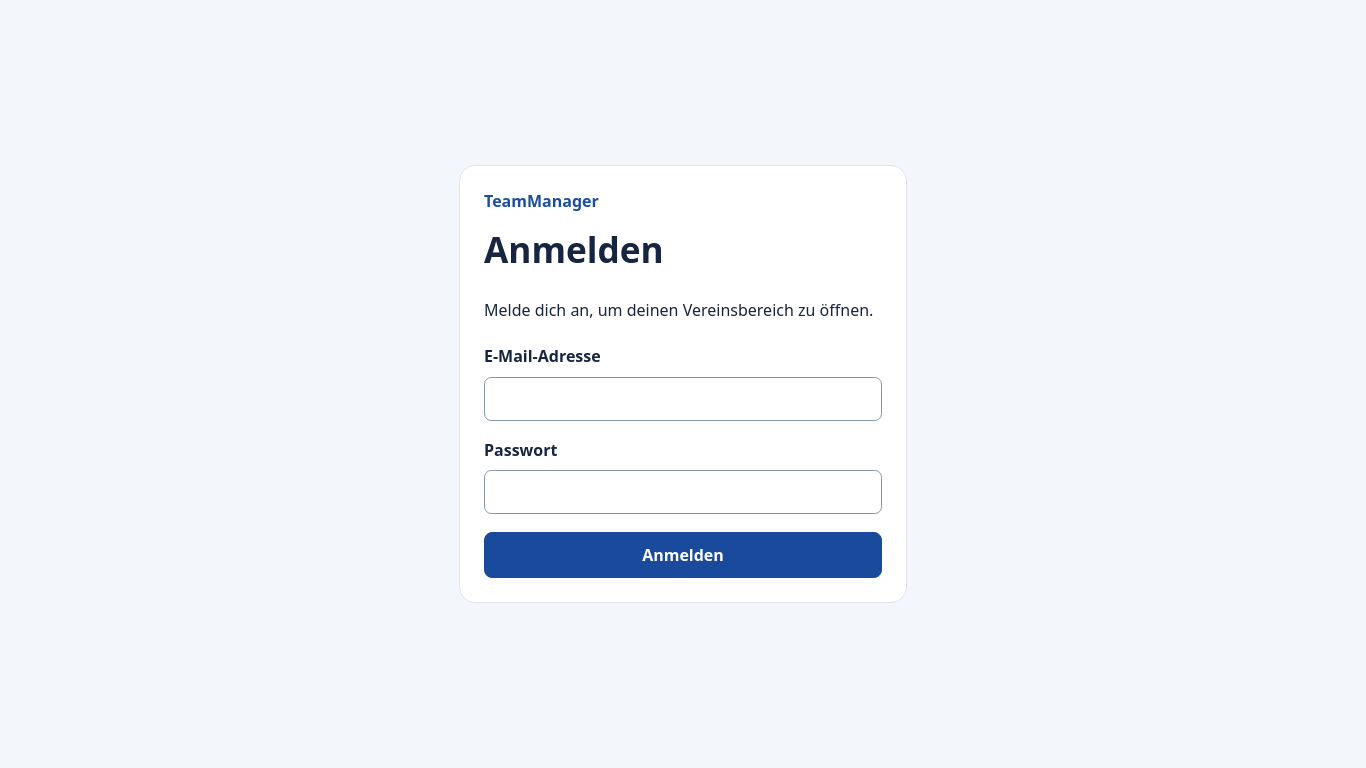
application shell › reports sign-in and sign-out errors without losing the current session
Type "admin@example.test" into the field labelled "E-Mail-Adresse" at coordinates (683, 399), box [484,377,882,421]
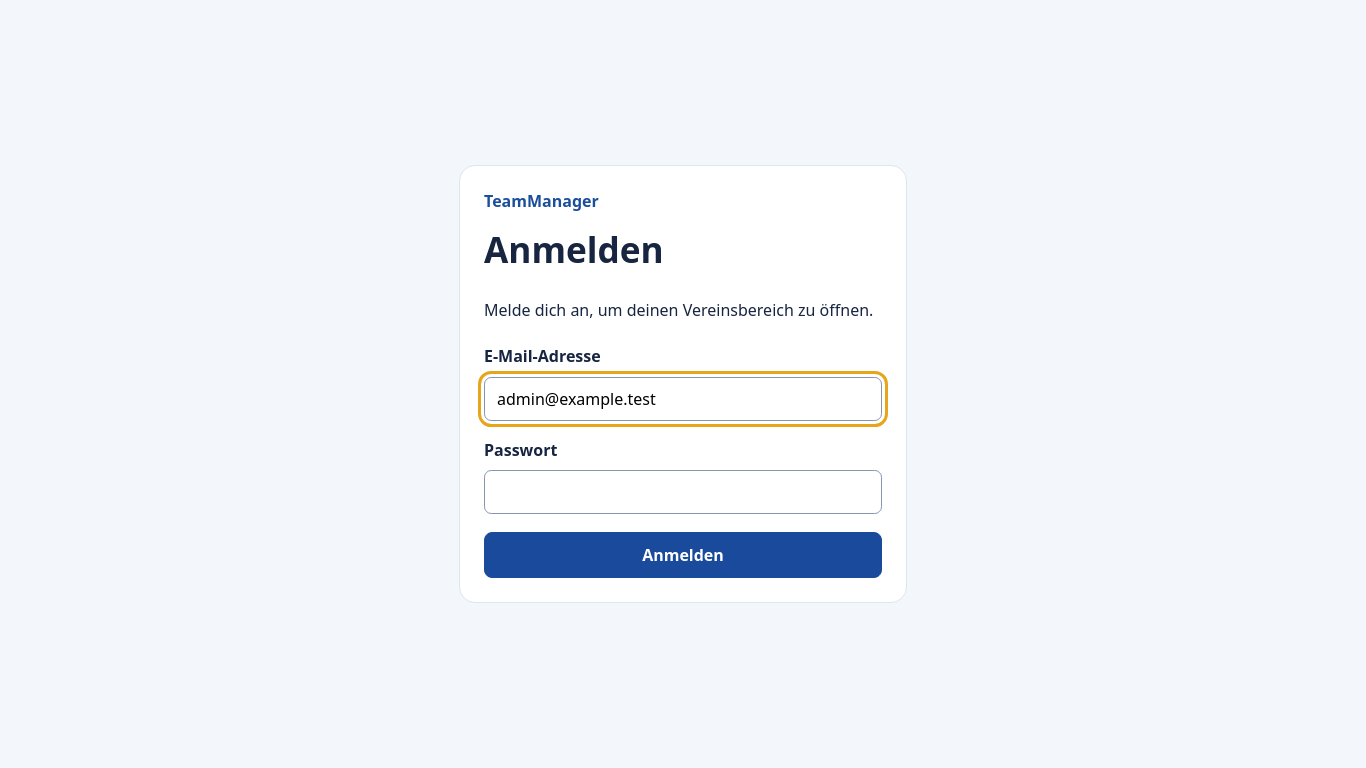
Type "wrong" into the password field labelled "Passwort" at coordinates (683, 492), box [484,470,882,514]
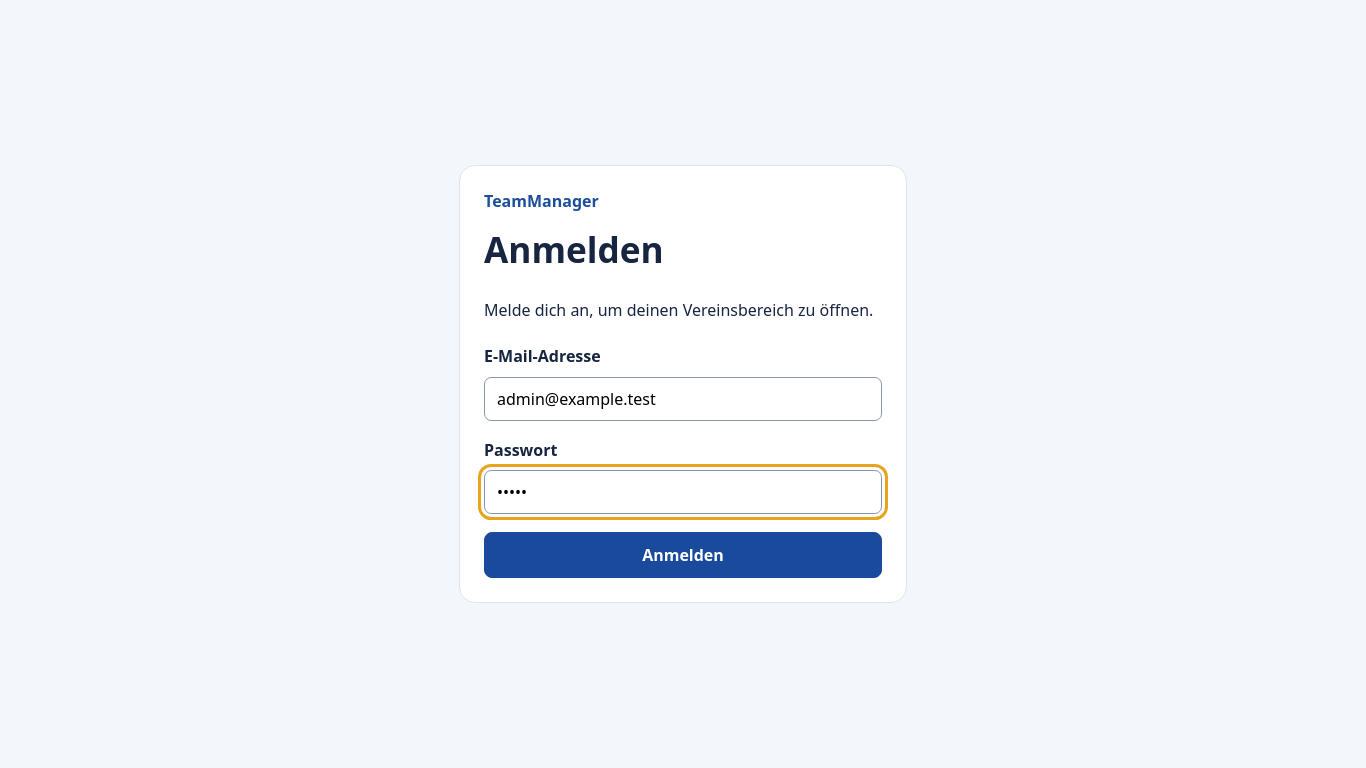
Click the button "Anmelden" at coordinates (683, 555), box [484,532,882,578]
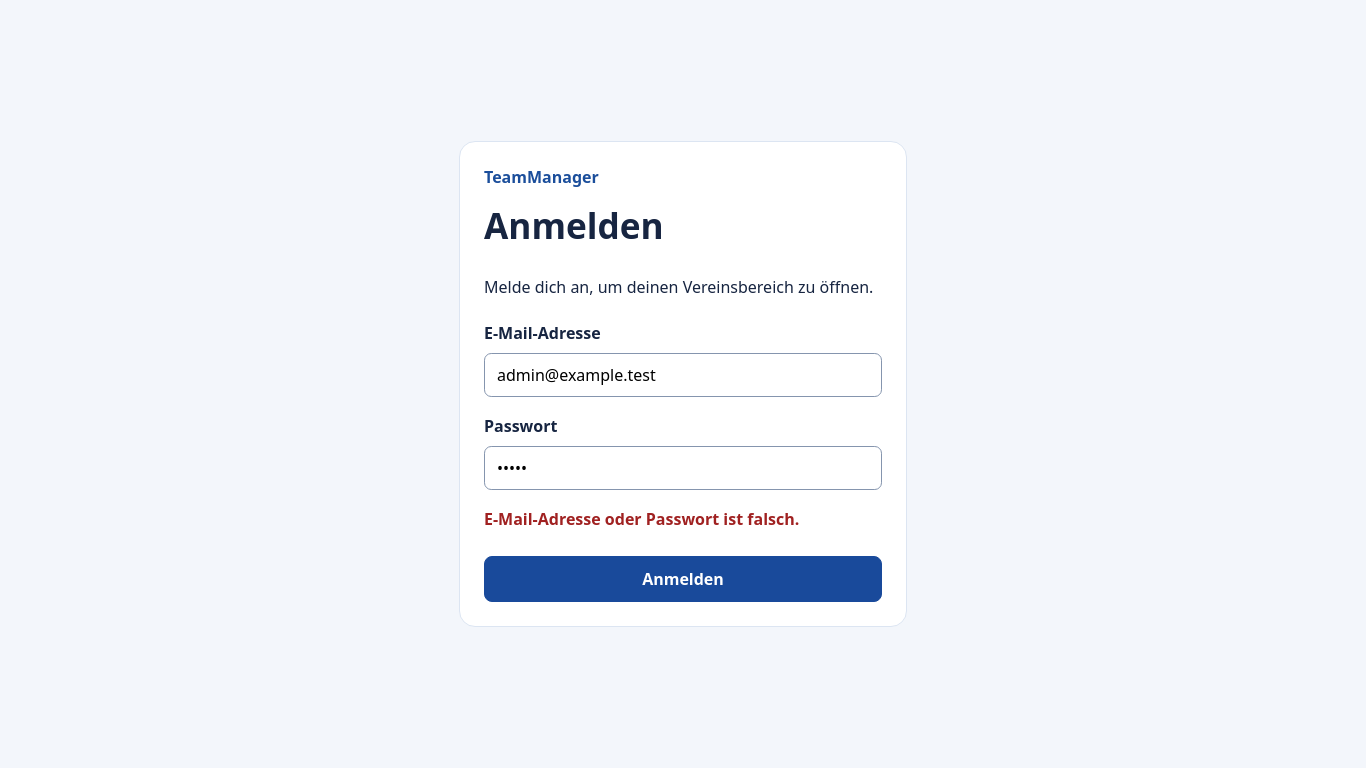
expect the message shows "E-Mail-Adresse oder Passwort": met, box [484,508,799,530]
Click the button "Anmelden" at coordinates (683, 579), box [484,556,882,602]
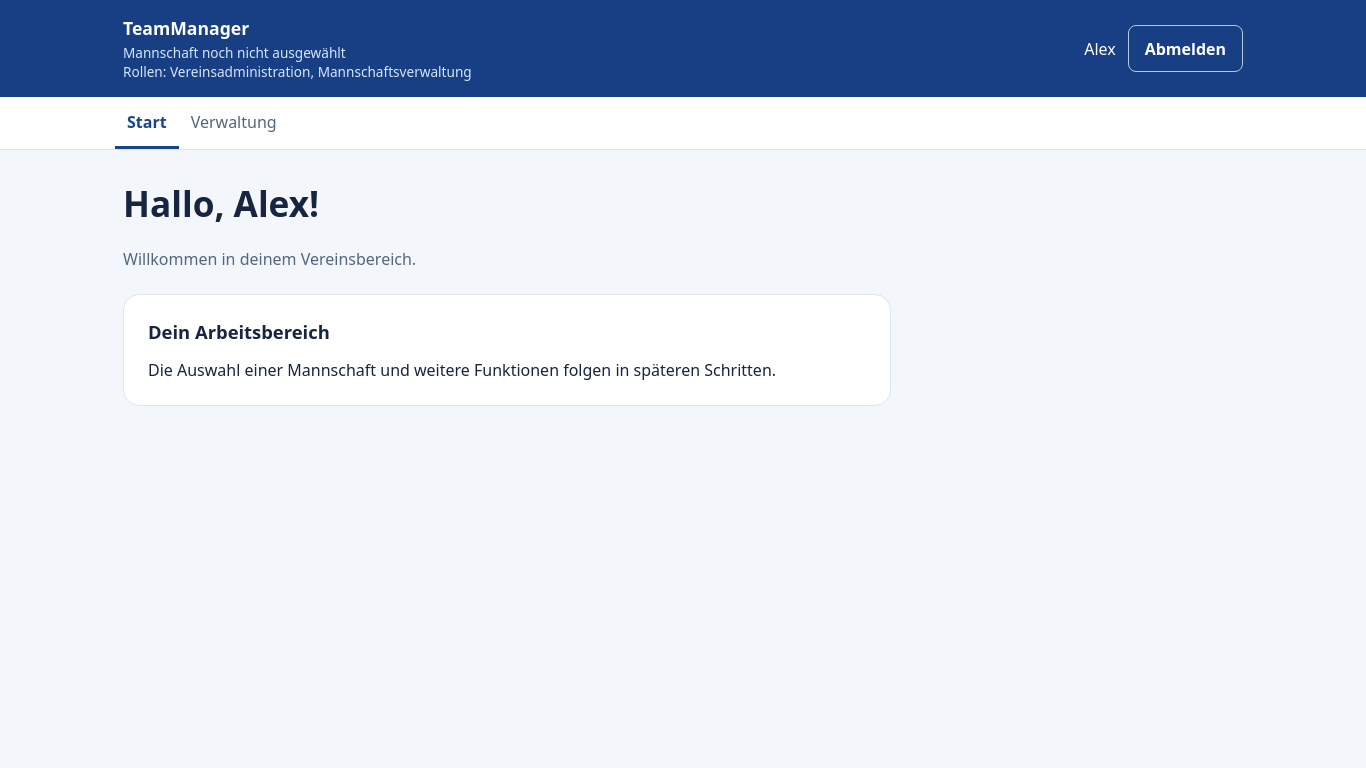
expect the heading "Hallo, Alex!" is shown: met, box [123,179,319,227]
Click the button "Abmelden" at coordinates (1185, 49), box [1128,25,1243,72]
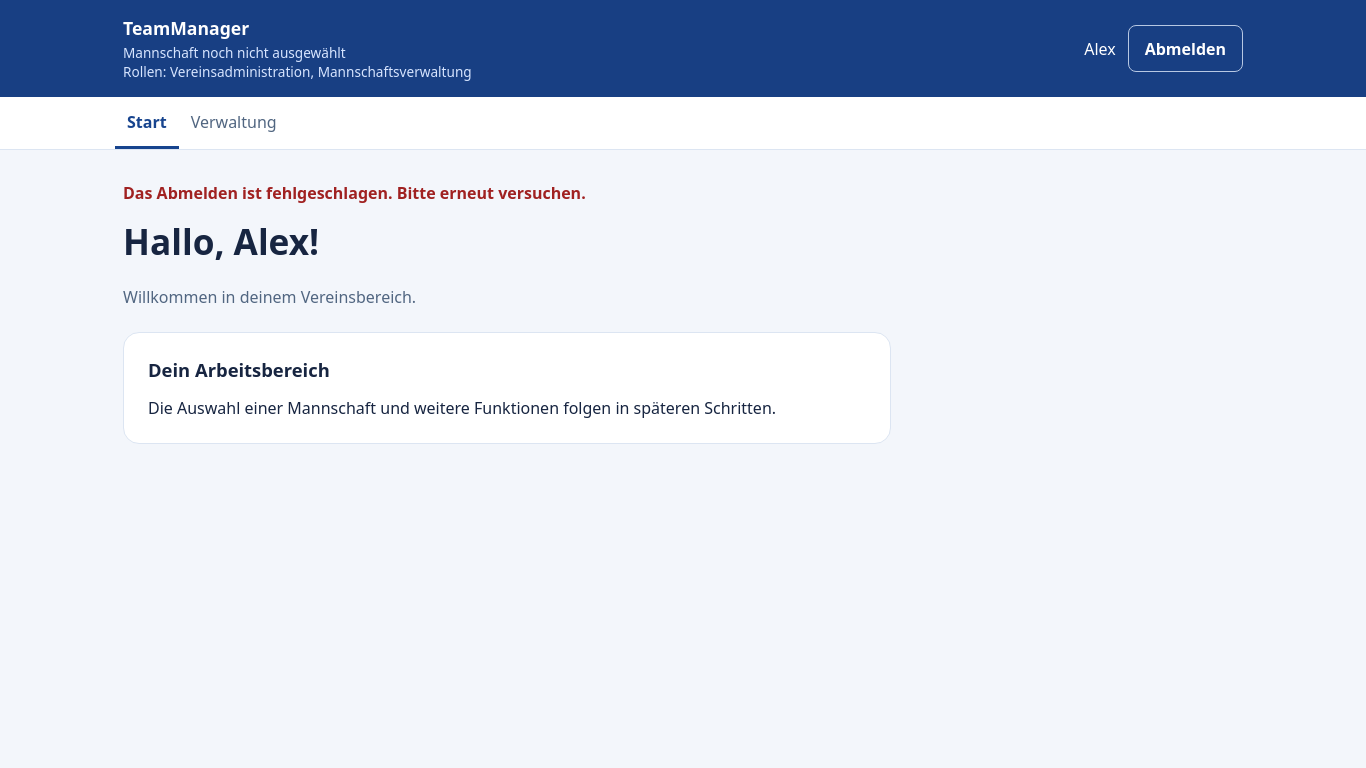
expect the heading "Hallo, Alex!" is shown: met, box [123,217,319,265]
expect the message shows "Abmelden": met, box [123,182,586,204]
